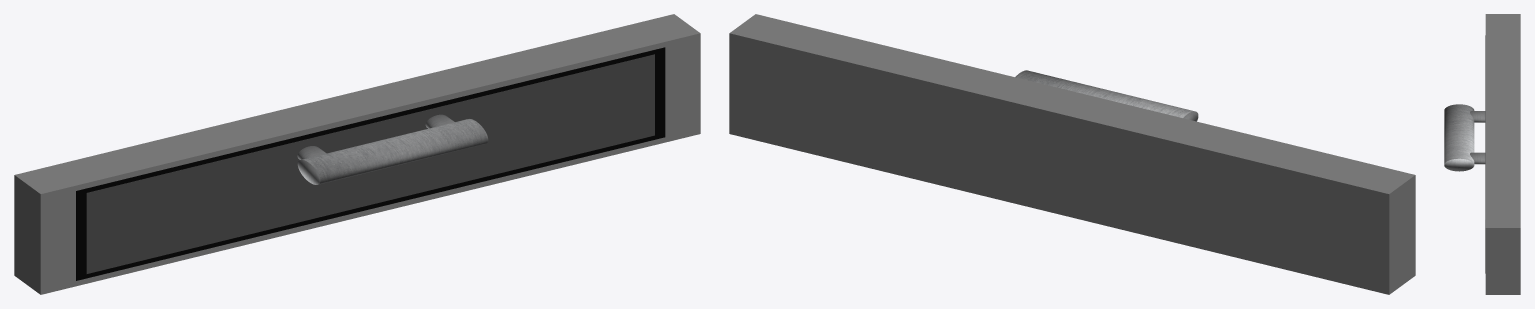
File: Cooker Unit (Oven Door 2).fbx
3 views of the same model, side by side, from view 1: azimuth 30°, elevation 25°; view 2: azimuth 150°, elevation 25°; view 3: azimuth 270°, elevation 25° (orthographic). The views are drawn at different scales.
Visible parts, largest first — view 1: Door 1.008, Door 1.010, Door 1.009, Cylinder.001; view 2: Door 1.010, Cylinder.001; view 3: Door 1.010, Cylinder.001, Door 1.008.
Part boxes in pixels (x1,y1,x2,y2): Door 1.008: (86,54,654,273); Door 1.010: (14,14,700,294); Door 1.009: (76,47,665,280); Cylinder.001: (297,114,488,184); Door 1.010: (729,14,1415,294); Cylinder.001: (1015,70,1198,121); Door 1.010: (1485,14,1520,294); Cylinder.001: (1444,104,1485,171); Door 1.008: (1485,35,1485,273).
Bounding box in the file's own units: 0.6961 × 0.1016 × 0.1053.
Materials: 4 (4 with a texture image).
